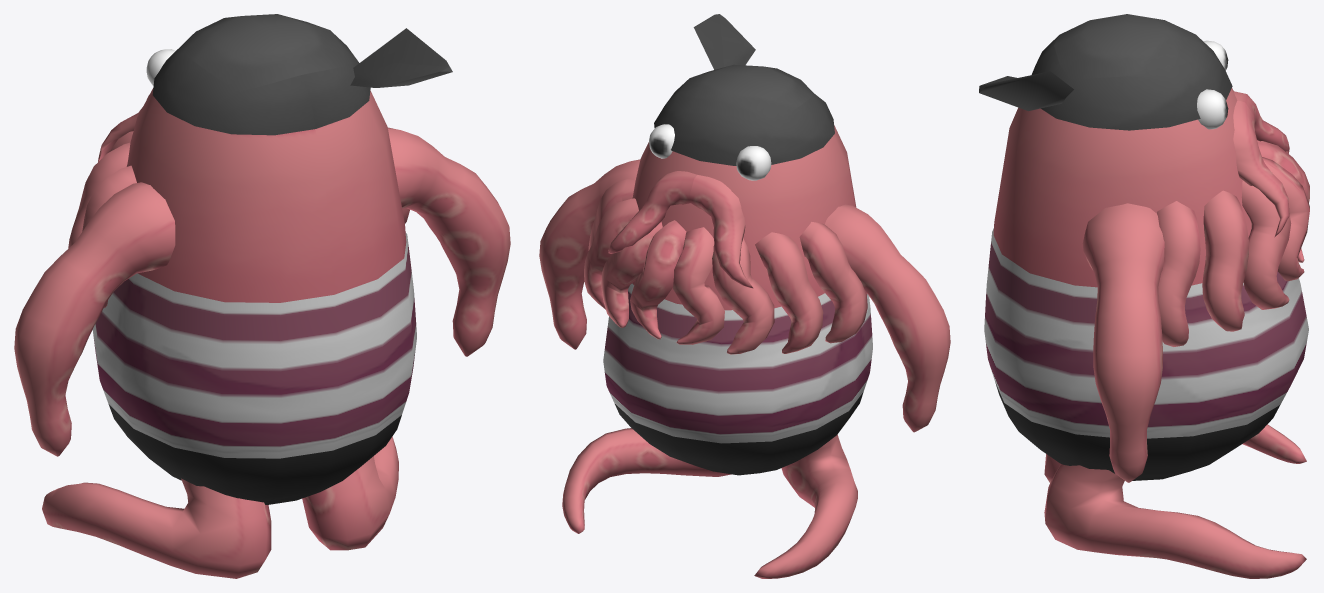
File: tako_idle_a_03.fbx
3 views of the same model, side by side, from view 1: azimuth 30°, elevation 25°; view 2: azimuth 150°, elevation 25°; view 3: azimuth 270°, elevation 25° (orthographic). The views are drawn at different scales.
Visible parts, largest first — view 1: I_a_03; view 2: I_a_03; view 3: I_a_03.
Part boxes in pixels (left/top/right/bottom): I_a_03: left=14, top=14, right=510, bottom=578; I_a_03: left=539, top=14, right=950, bottom=578; I_a_03: left=979, top=14, right=1309, bottom=578.
Size of the model in its own units: 1.63 by 1.66 by 1.01.
Materials: 1 (1 with a texture image).
